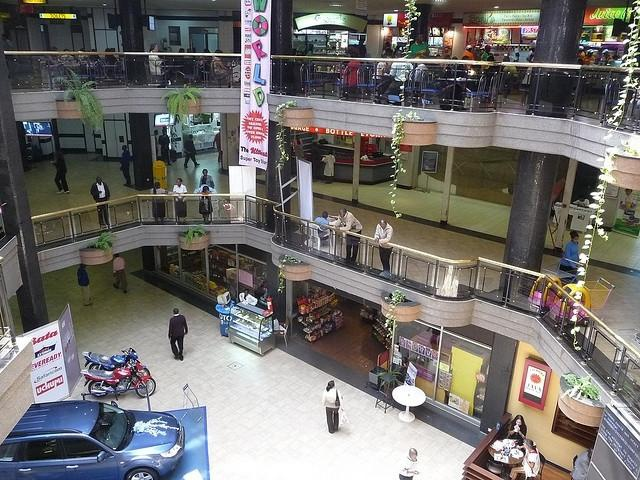non-vehicle: (79, 356, 155, 398), (81, 347, 138, 367)
